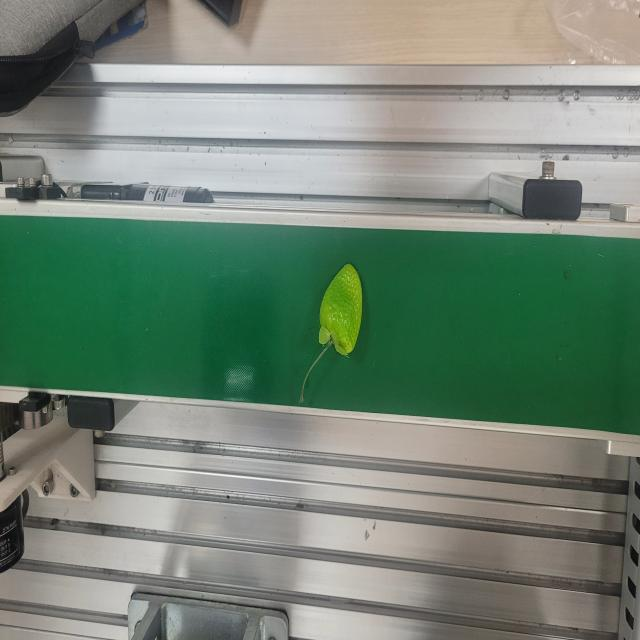Small Unripe Strawberry: (296, 257, 366, 406)
